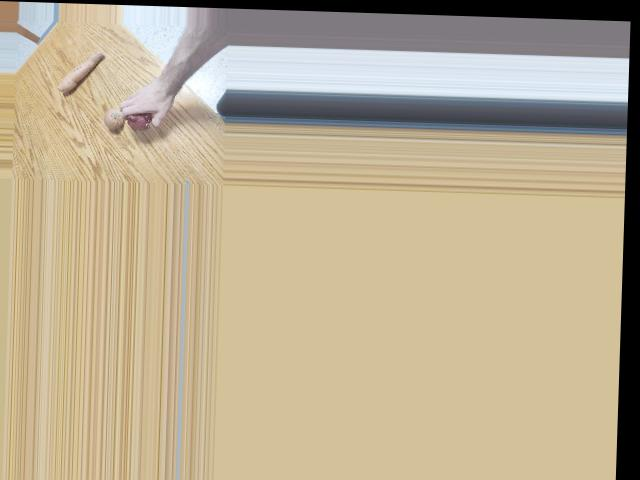onion: (105, 108, 127, 132)
